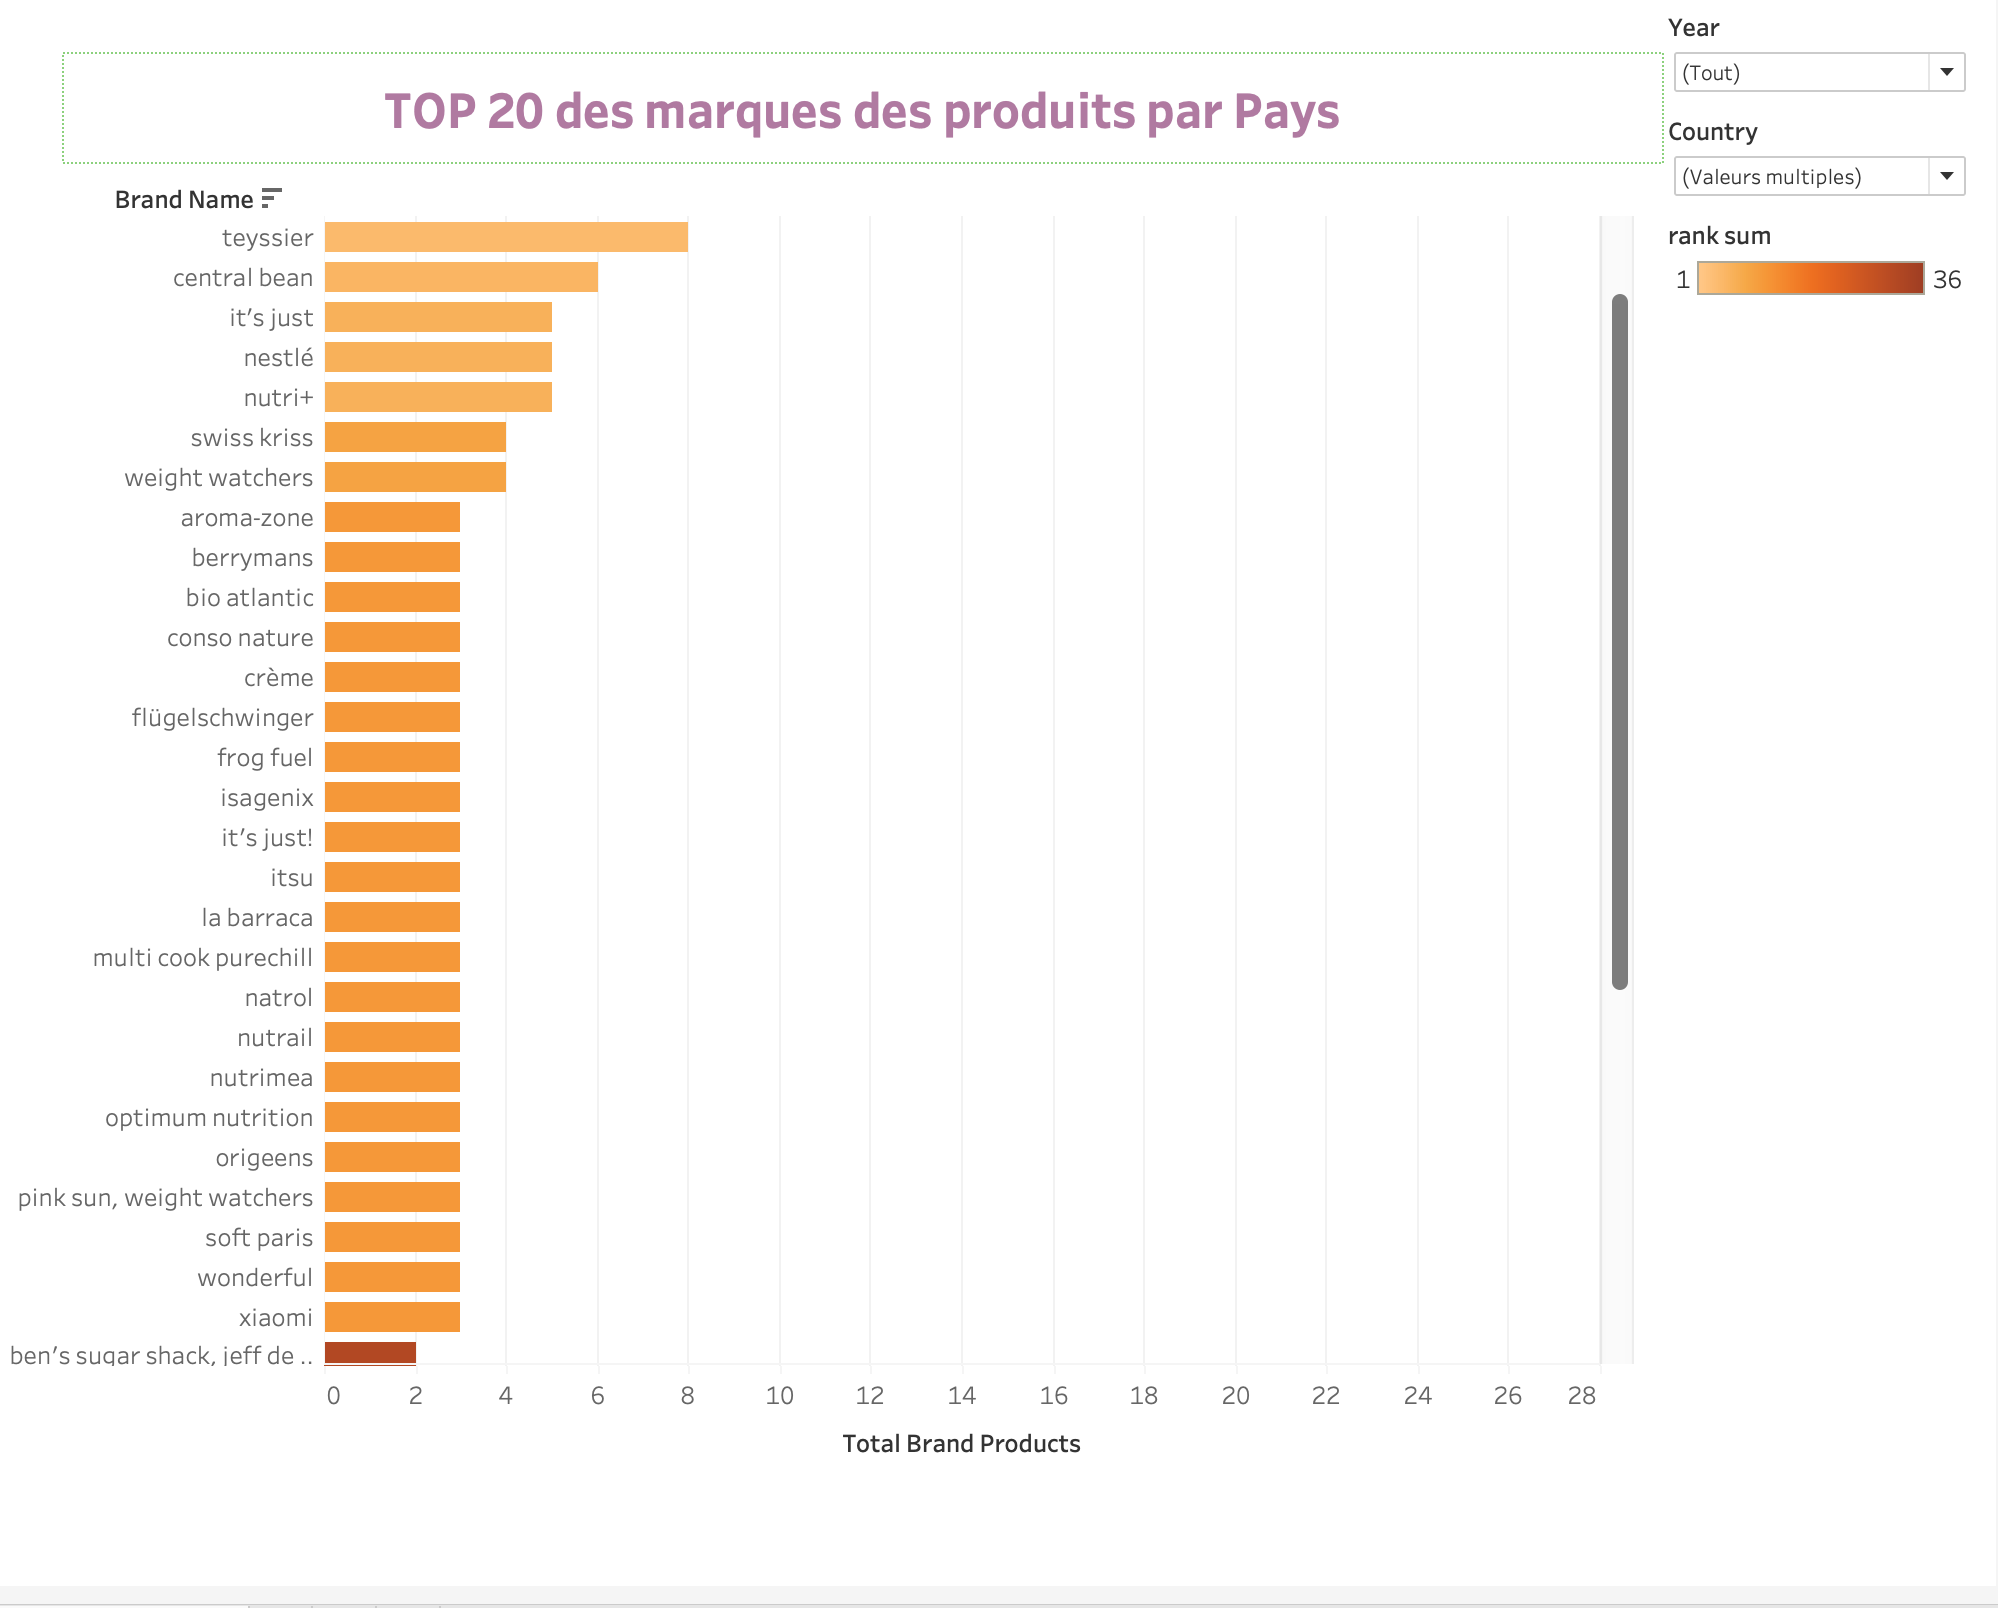

Layout of this report page (visuals, bound fields, positions):
{"tool":"tableau","page":{"name":"Tableau de bord 1","canvas":[1000,800],"ordinal":0},"visuals":[{"type":"filter","title":"Feuille 1","param":"[federated.1hjfomq0euhfzv1gsxbuj1htpux8].[none:year:ok]","box":[832,8,160,52]},{"type":"text","box":[34,34,799,54]},{"type":"filter","title":"Feuille 1","param":"[federated.1hjfomq0euhfzv1gsxbuj1htpux8].[none:country:nk]","box":[832,60,160,52]},{"type":"worksheet","title":"Feuille 1","mark":"Automatic","rows":["brand_name"],"cols":["total_brand_products"],"box":[4,95,815,649]},{"type":"legend","title":"Feuille 1","param":"[federated.1hjfomq0euhfzv1gsxbuj1htpux8].[usr:Calculation_0086688764616704:qk]","box":[832,112,160,65]}]}

Visuals, with their boxes in screenshot pixels (x1, y1, x2, y2), scaled from the page's 1000x800 canvas onto the 1998x1608 screenshot:
"Feuille 1" filter: bbox(1662, 16, 1982, 121)
text: bbox(68, 68, 1664, 177)
"Feuille 1" filter: bbox(1662, 121, 1982, 225)
"Feuille 1" worksheet: bbox(8, 191, 1636, 1495)
"Feuille 1" legend: bbox(1662, 225, 1982, 356)
